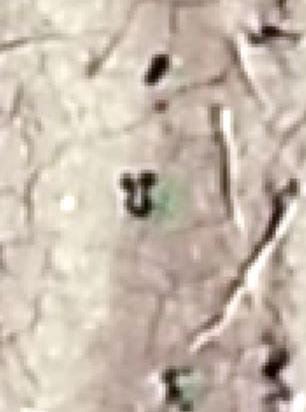cotton: (153, 181, 180, 213), (176, 375, 198, 399)
